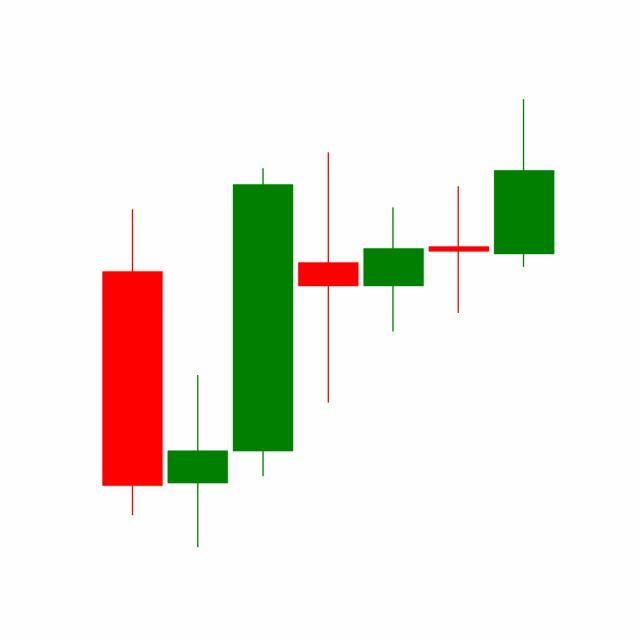Hikkake Pattern: (165, 148, 492, 549)
